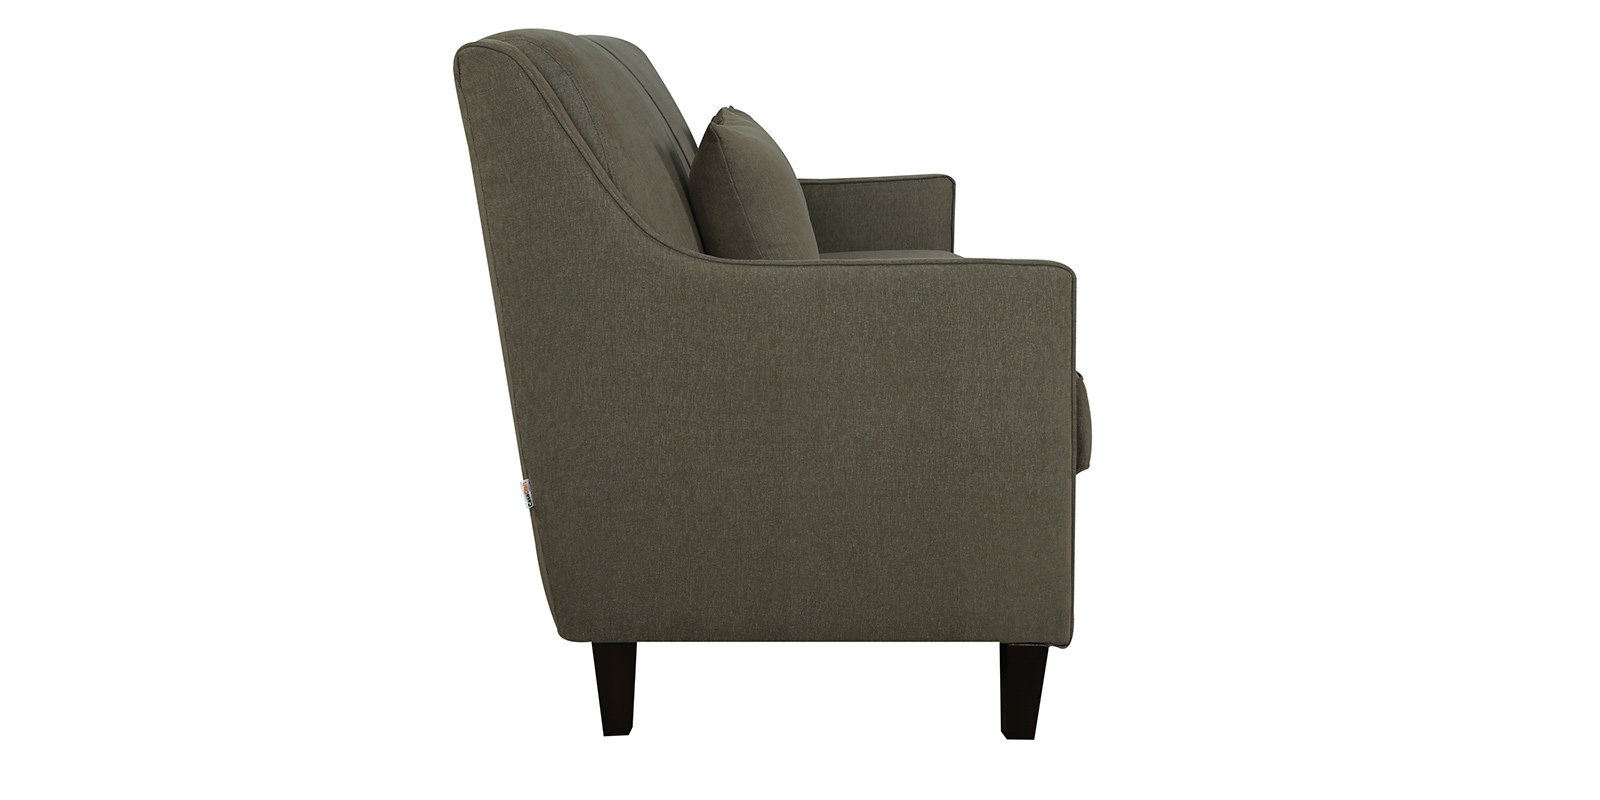Oscar Three Seater Sofa in Sandy Brown Colour by CasaCraft: (451, 24, 1095, 741)
